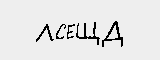Д: (102, 19, 128, 47)
Е: (64, 21, 76, 41)
Л: (33, 20, 59, 44)
С: (56, 21, 66, 41)
Щ: (74, 19, 100, 45)
